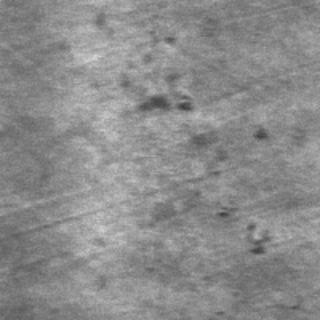rolled pit: (190, 114, 270, 252), (116, 24, 192, 110)
